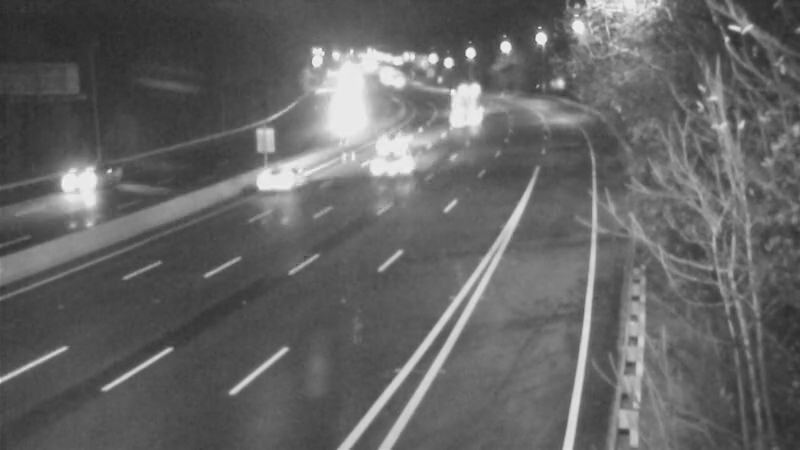vehicle: (354, 129, 434, 209), (239, 143, 319, 223), (36, 138, 116, 218), (436, 77, 486, 127), (367, 117, 417, 167)
